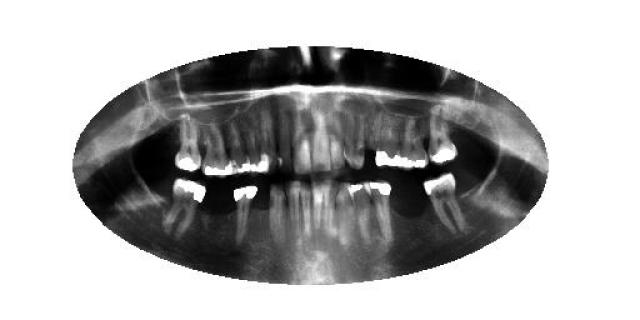Fillings: (165, 179, 206, 239), (176, 108, 202, 174), (399, 115, 430, 169), (232, 185, 258, 246), (368, 178, 392, 244), (430, 108, 458, 164), (202, 119, 228, 178), (376, 108, 399, 168)
